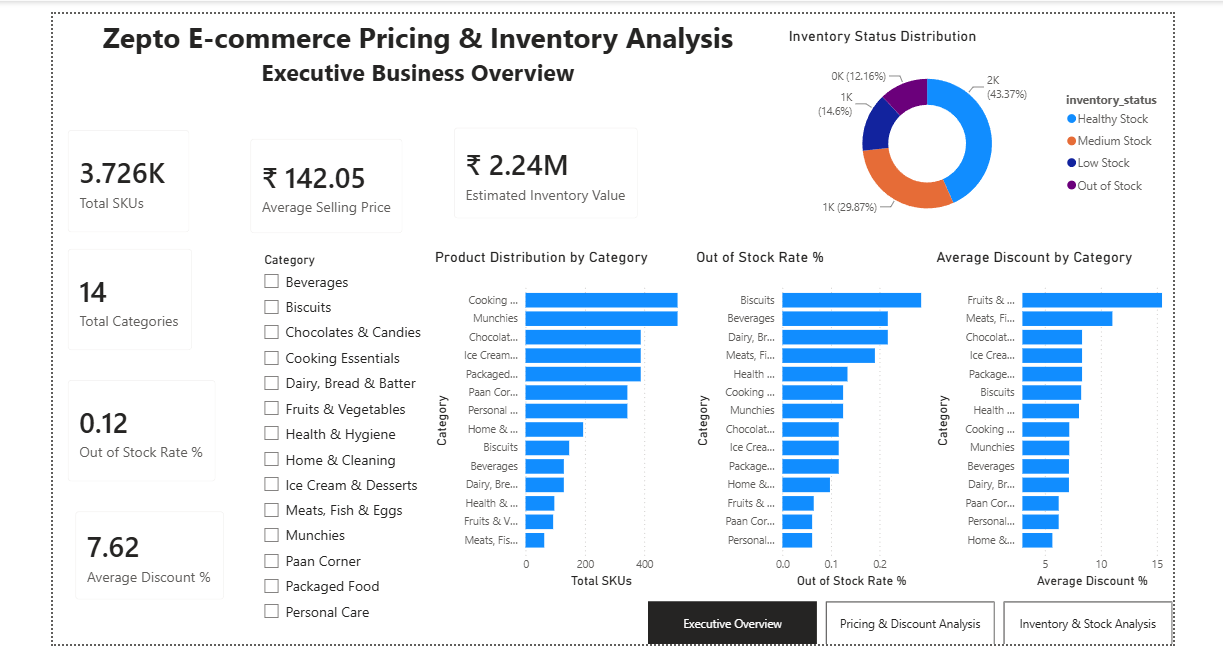

What the dashboard file says about the page in this screenshot:
{"tool":"powerbi","page":{"name":"Executive Overview","canvas":[1280,720],"ordinal":0},"visuals":[{"type":"textbox","box":[9.1,0,817,113.5],"z":0},{"type":"cardVisual","fields":{"Data":["zepto_analysis zepto_analysis.Total SKUs"]},"box":[0,116.2,173.6,151.4],"z":1000},{"type":"cardVisual","fields":{"Data":["zepto_analysis zepto_analysis.Total Categories"]},"box":[0,251.9,176.2,150.1],"z":2000},{"type":"cardVisual","fields":{"Data":["zepto_analysis zepto_analysis.Average Selling Price"]},"box":[208.8,125.3,208.8,142.3],"z":3000},{"type":"cardVisual","fields":{"Data":["zepto_analysis zepto_analysis.Average Discount %"]},"box":[9.1,552,204.9,135.7],"z":4000},{"type":"cardVisual","fields":{"Data":["zepto_analysis zepto_analysis.Out of Stock Rate %"]},"box":[0,402,203.6,150.1],"z":5000},{"type":"cardVisual","fields":{"Data":["zepto_analysis zepto_analysis.Estimated Inventory Value"]},"box":[441.1,113.5,244,138.3],"z":6000},{"type":"clusteredBarChart","title":"Product Distribution by Category","fields":{"Category":["zepto_analysis zepto_analysis.Category"],"Y":["zepto_analysis zepto_analysis.Total SKUs"]},"box":[432,267.5,297.6,394.1],"z":7000},{"type":"clusteredBarChart","title":"Average Discount by Category","fields":{"Category":["zepto_analysis zepto_analysis.Category"],"Y":["zepto_analysis zepto_analysis.Average Discount %"]},"box":[1004.9,267.5,275.4,394.1],"z":8000},{"type":"clusteredBarChart","title":"Out of Stock Rate %","fields":{"Y":["zepto_analysis zepto_analysis.Out of Stock Rate %"],"Category":["zepto_analysis zepto_analysis.Category"]},"box":[729.5,267.5,275.4,394.1],"z":9000},{"type":"donutChart","title":"Inventory Status Distribution","fields":{"Category":["zepto_analysis zepto_analysis.inventory_status"],"Y":["zepto_analysis zepto_analysis.Total SKUs"]},"box":[835.2,14.4,445,237.5],"z":10000},{"type":"slicer","fields":{"Values":["zepto_analysis zepto_analysis.Category"]},"box":[228.4,267.5,203.6,452.9],"z":11000},{"type":"pageNavigator","box":[679.9,670.8,600,50],"z":11001}]}

Visuals, with their boxes on the page's 1280x720 design canvas (x1, y1, x2, y2). These are canvas units, not pixel positions in the 1223x661 screenshot, which may show the page scaled, cropped or inside an application window:
textbox: bbox=(9, 0, 826, 114)
cardVisual - zepto_analysis zepto_analysis.Total SKUs: bbox=(0, 116, 174, 268)
cardVisual - zepto_analysis zepto_analysis.Total Categories: bbox=(0, 252, 176, 402)
cardVisual - zepto_analysis zepto_analysis.Average Selling Price: bbox=(209, 125, 418, 268)
cardVisual - zepto_analysis zepto_analysis.Average Discount %: bbox=(9, 552, 214, 688)
cardVisual - zepto_analysis zepto_analysis.Out of Stock Rate %: bbox=(0, 402, 204, 552)
cardVisual - zepto_analysis zepto_analysis.Estimated Inventory Value: bbox=(441, 114, 685, 252)
"Product Distribution by Category" clusteredBarChart: bbox=(432, 268, 730, 662)
"Average Discount by Category" clusteredBarChart: bbox=(1005, 268, 1280, 662)
"Out of Stock Rate %" clusteredBarChart: bbox=(730, 268, 1005, 662)
"Inventory Status Distribution" donutChart: bbox=(835, 14, 1280, 252)
slicer - zepto_analysis zepto_analysis.Category: bbox=(228, 268, 432, 720)
pageNavigator: bbox=(680, 671, 1280, 721)
